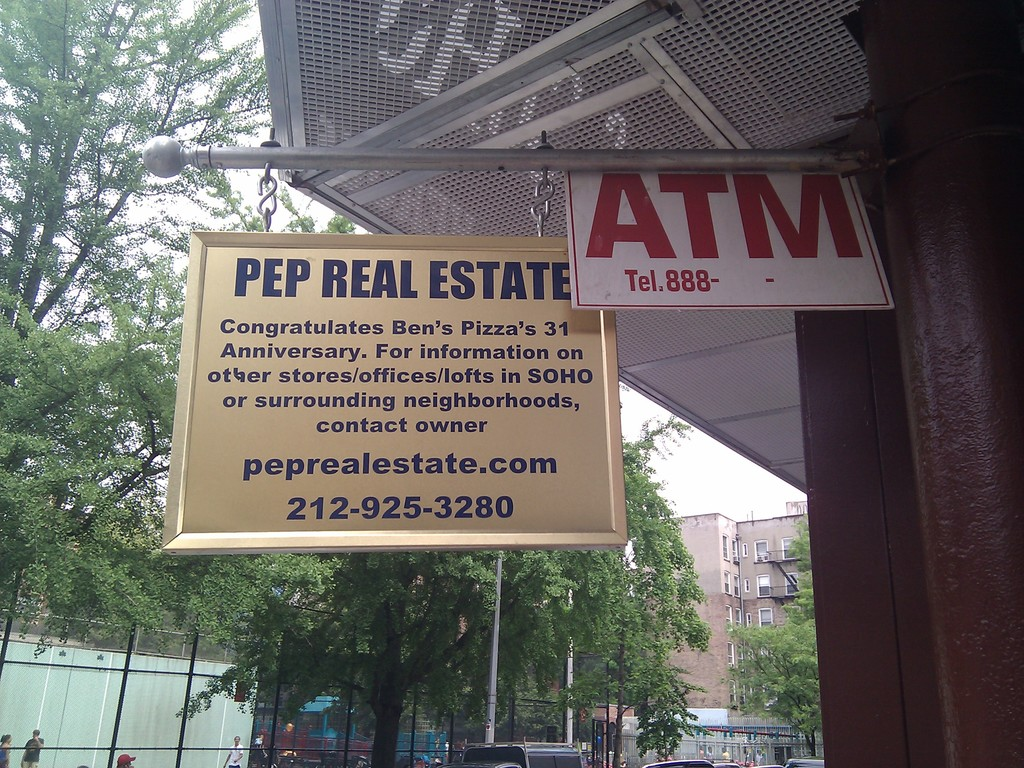Tree: (0, 0, 833, 767)
